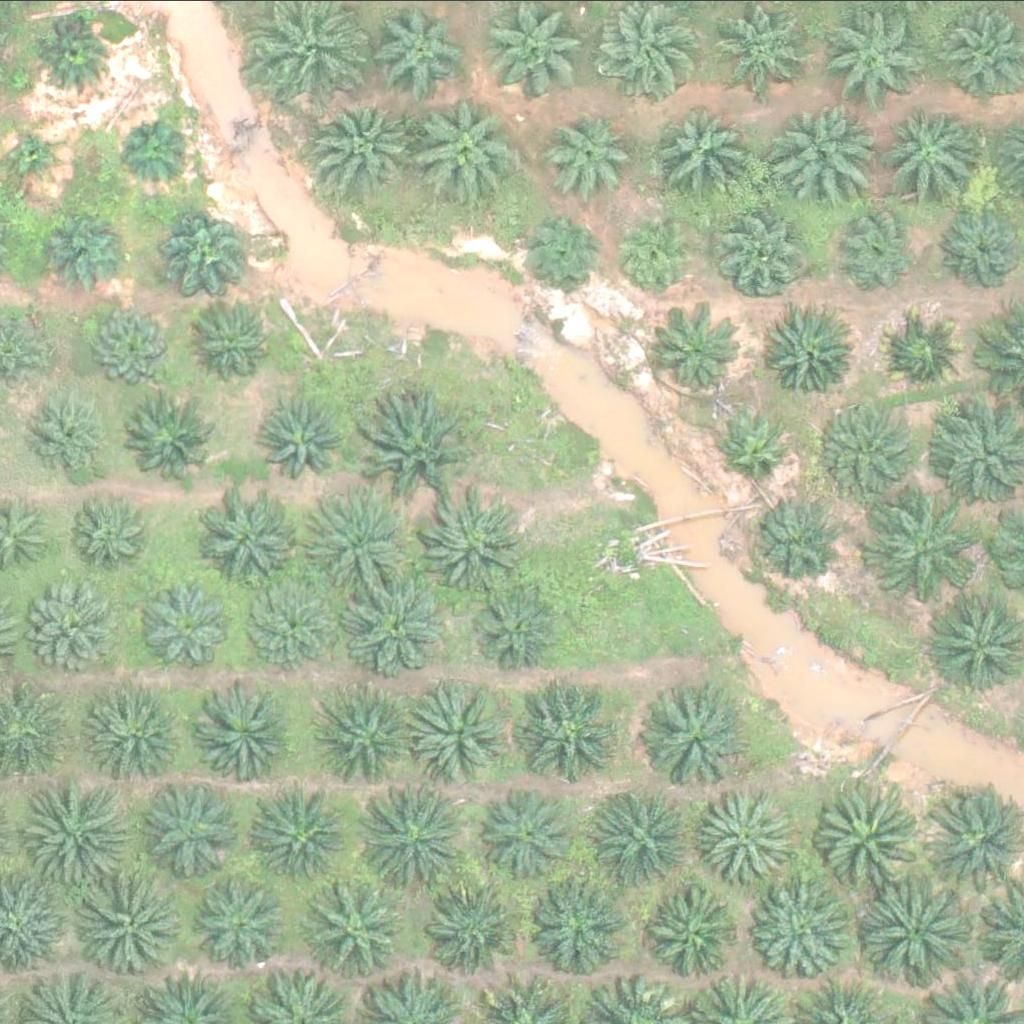Kelapa_Sawit: (16, 774, 129, 887), (861, 878, 974, 991), (361, 393, 474, 506), (813, 783, 926, 895), (298, 491, 411, 603), (356, 779, 469, 891), (88, 871, 189, 971), (140, 778, 241, 878), (90, 681, 191, 781), (198, 680, 299, 780), (832, 7, 933, 107), (878, 100, 979, 200), (878, 506, 979, 606), (650, 691, 751, 791), (699, 784, 800, 884), (644, 886, 745, 986), (752, 879, 853, 979), (539, 107, 640, 207), (422, 497, 523, 597), (339, 572, 440, 672), (408, 688, 509, 788), (320, 688, 421, 788), (252, 784, 353, 884), (137, 572, 237, 672), (201, 486, 301, 586), (659, 101, 759, 201), (775, 98, 875, 198), (813, 399, 913, 499), (601, 786, 701, 886), (313, 91, 413, 191), (419, 100, 519, 200), (518, 682, 618, 782), (477, 786, 577, 886), (522, 874, 622, 974), (302, 882, 402, 982), (418, 877, 518, 977), (68, 493, 157, 581), (244, 579, 333, 667), (167, 203, 255, 291), (616, 209, 704, 297), (834, 205, 922, 293), (754, 496, 842, 584), (194, 299, 282, 386), (87, 304, 175, 391), (26, 394, 114, 481), (126, 398, 214, 485), (197, 881, 285, 968), (38, 578, 126, 665), (34, 206, 122, 293), (717, 208, 805, 295), (658, 306, 746, 393), (763, 310, 851, 397), (881, 310, 969, 397), (380, 7, 468, 94), (517, 208, 605, 295), (263, 393, 351, 480), (470, 584, 558, 671), (720, 406, 796, 481), (35, 18, 111, 93), (118, 112, 193, 187), (7, 123, 70, 186)
